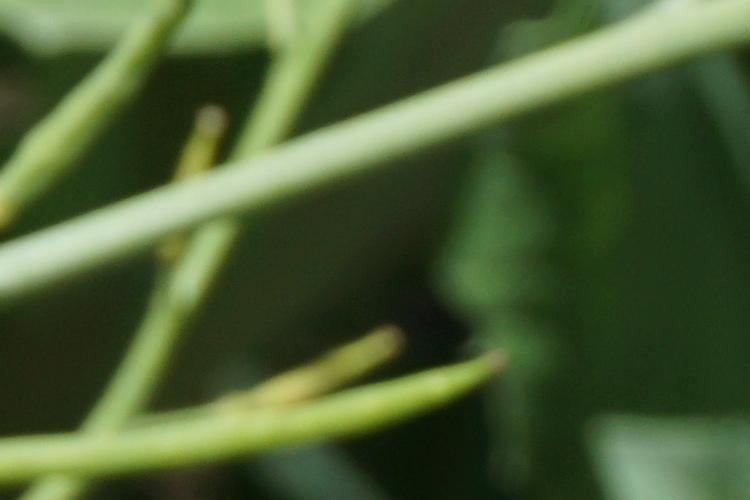pod: (8, 343, 527, 465)
